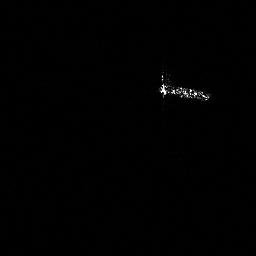ship: (156, 72, 213, 104)
